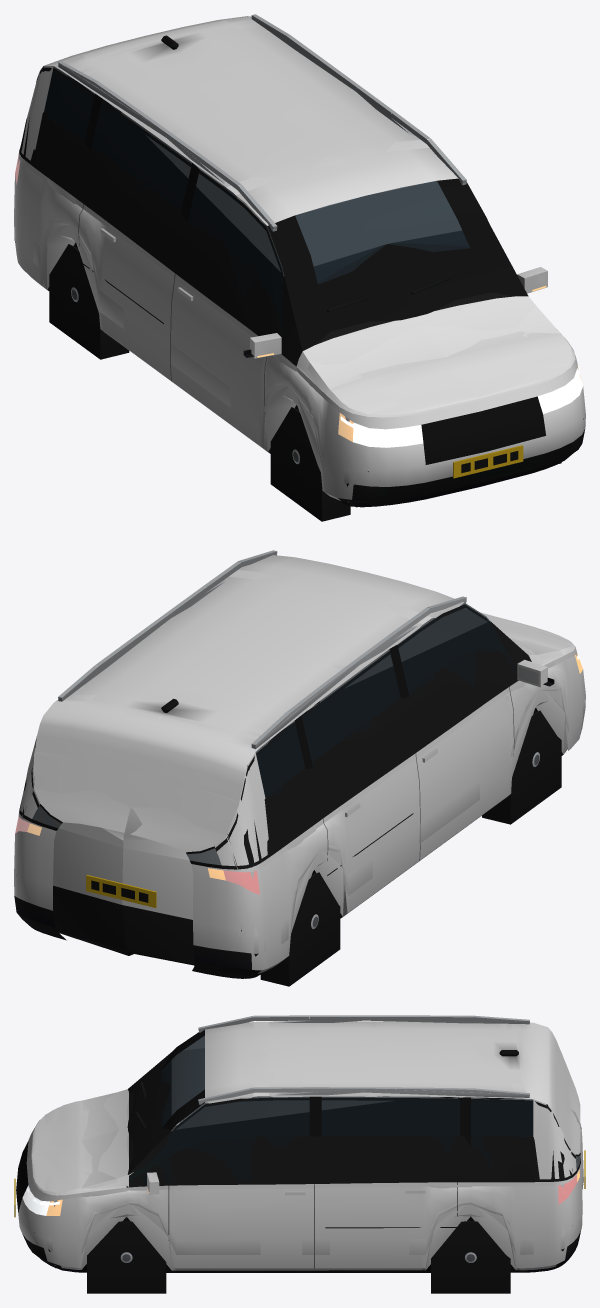
Rendered from mpv.glb.
3 views of the same model, one above another, from view 1: azimuth 30°, elevation 25°; view 2: azimuth 150°, elevation 25°; view 3: azimuth 270°, elevation 25° (orthographic). The views are drawn at different scales.
Visible parts, largest first — view 1: body (×3); view 2: body (×3); view 3: body (×3).
Boxes of the visible parts, left/top/right/bottom form: body (×3): left=14, top=14, right=585, bottom=521; body (×3): left=14, top=550, right=585, bottom=986; body (×3): left=14, top=1015, right=585, bottom=1293.
Bounding box in the file's own units: 2.24 × 1.81 × 4.75.
